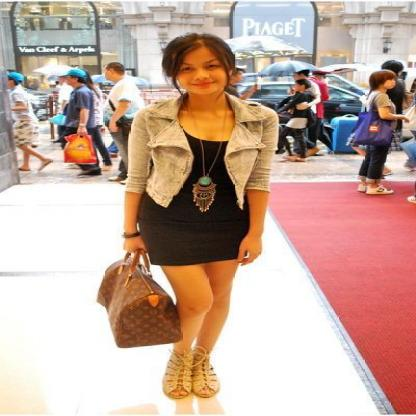bag: (97, 249, 181, 348)
dress: (136, 134, 249, 265)
jacket: (113, 92, 286, 208)
shoe: (162, 351, 218, 399)
